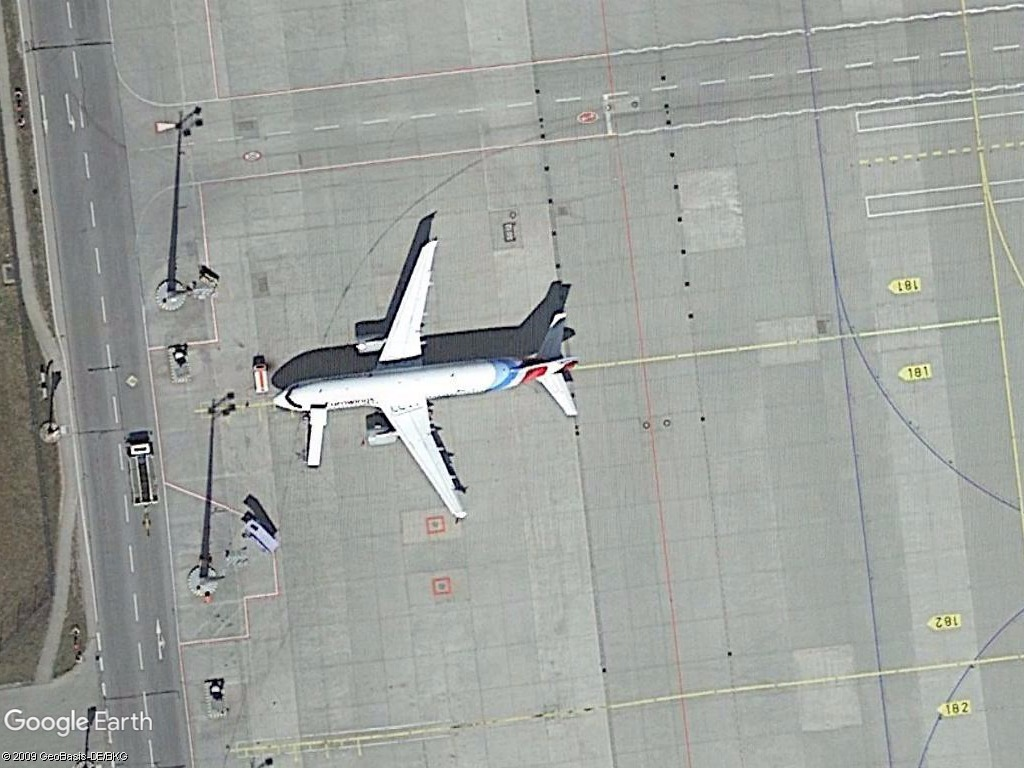airliner: (256, 230, 602, 523)
